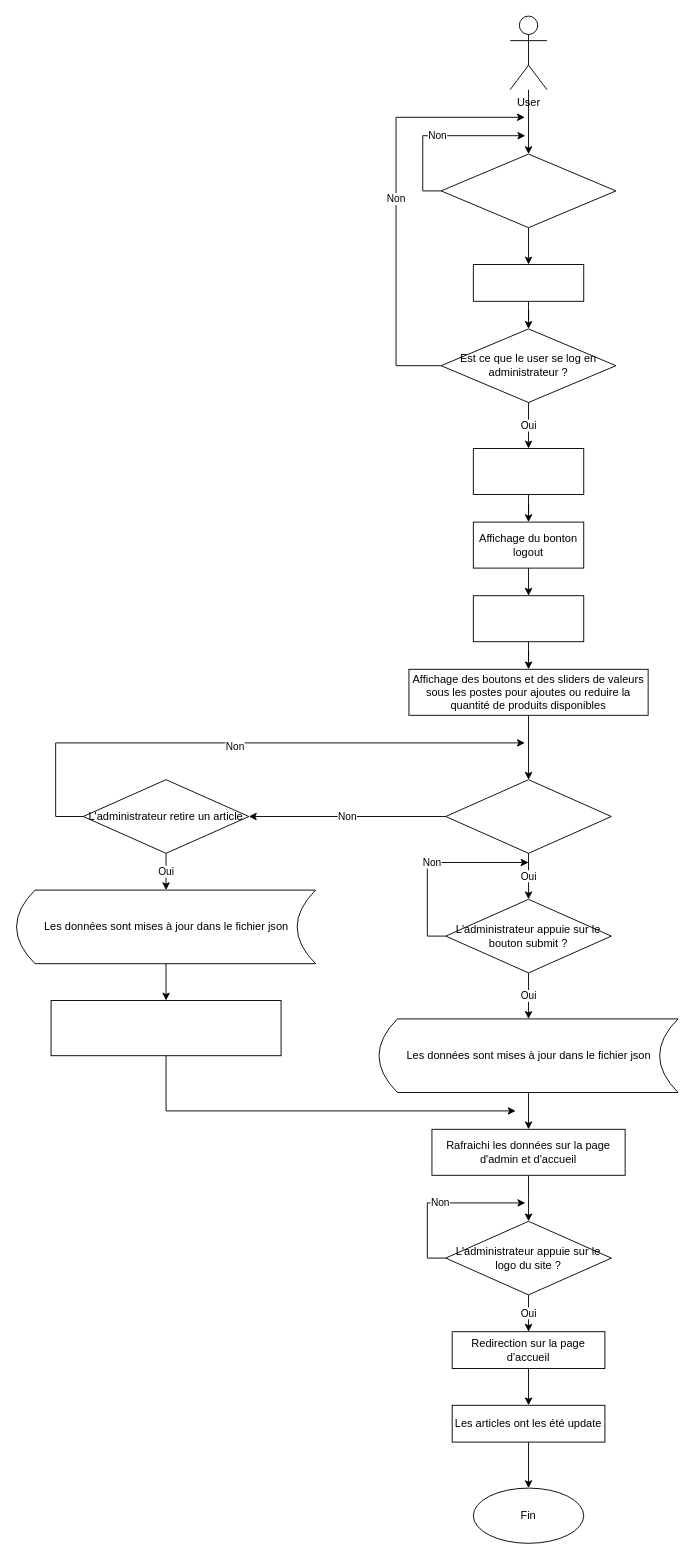
Image size: 694x1559. Some labels were removed from this diagram. Each missing label, with the centre of its shape:
Affichage des articles: (528,618)
Est le user appuie sur le bouton Login ?: (528,190)
Est redirigé sur la page d'admin: (528,471)
Est redirigé sur la page de login: (528,282)
L'administrateur ajoute une valeur sous un article: (528,816)
L'article a été supprimer: (165,1028)
